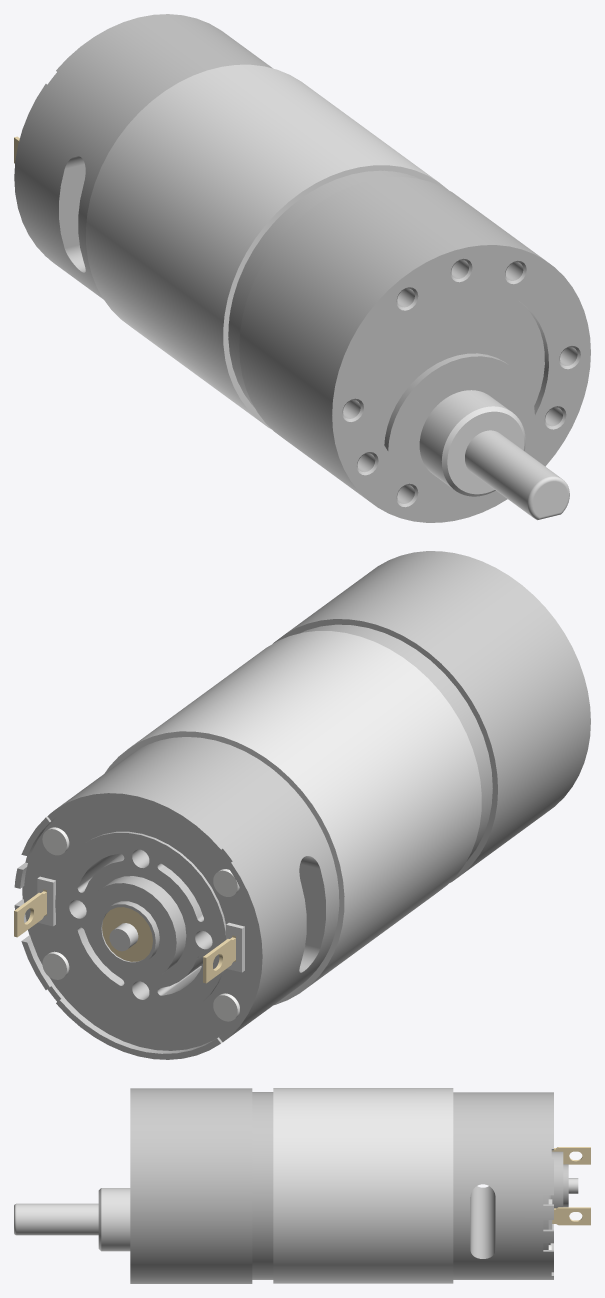
The model's file is 37 GB 555 Gear Motor v3.gltf.glb.
3 views of the same model, one above another, from view 1: azimuth 30°, elevation 25°; view 2: azimuth 150°, elevation 25°; view 3: azimuth 270°, elevation 25° (orthographic). The views are drawn at different scales.
Visible parts, largest first — view 1: mesh_0, mesh_5, mesh_1; view 2: mesh_0, mesh_5, mesh_2, mesh_3, mesh_4; view 3: mesh_0, mesh_5, mesh_1, mesh_2.
Boxes of the visible parts, x1,y1,x2,y2 form: mesh_0: [14, 14, 590, 522]; mesh_5: [86, 64, 447, 429]; mesh_1: [419, 390, 569, 520]; mesh_0: [14, 551, 590, 1059]; mesh_5: [105, 631, 481, 1004]; mesh_2: [14, 889, 235, 983]; mesh_3: [42, 827, 239, 1021]; mesh_4: [37, 876, 244, 972]; mesh_0: [130, 1088, 568, 1283]; mesh_5: [273, 1088, 453, 1283]; mesh_1: [14, 1178, 578, 1251]; mesh_2: [552, 1147, 590, 1225].
Size of the model in its own units: 0.037 by 0.0369 by 0.109.
